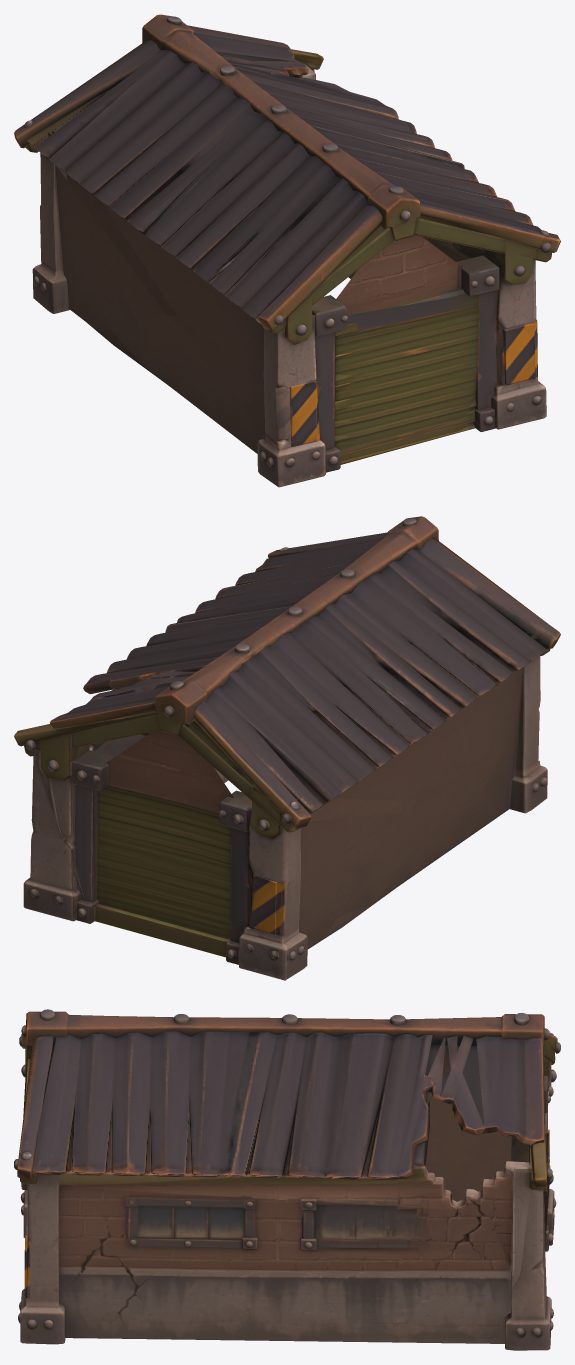
Rendered from warehouse.fbx.
3 views of the same model, one above another, from view 1: azimuth 30°, elevation 25°; view 2: azimuth 150°, elevation 25°; view 3: azimuth 270°, elevation 25° (orthographic). The views are drawn at different scales.
Visible parts, largest first — view 1: tripo_7f64c7f0_dcdf_40c5_80c6_00fe2f5afe50; view 2: tripo_7f64c7f0_dcdf_40c5_80c6_00fe2f5afe50; view 3: tripo_7f64c7f0_dcdf_40c5_80c6_00fe2f5afe50.
Part boxes in pixels (bbox=[...]): tripo_7f64c7f0_dcdf_40c5_80c6_00fe2f5afe50: bbox=[14, 14, 560, 487]; tripo_7f64c7f0_dcdf_40c5_80c6_00fe2f5afe50: bbox=[14, 516, 560, 980]; tripo_7f64c7f0_dcdf_40c5_80c6_00fe2f5afe50: bbox=[14, 1009, 560, 1350].
Size of the model in its own units: 1209 by 984 by 1800.
